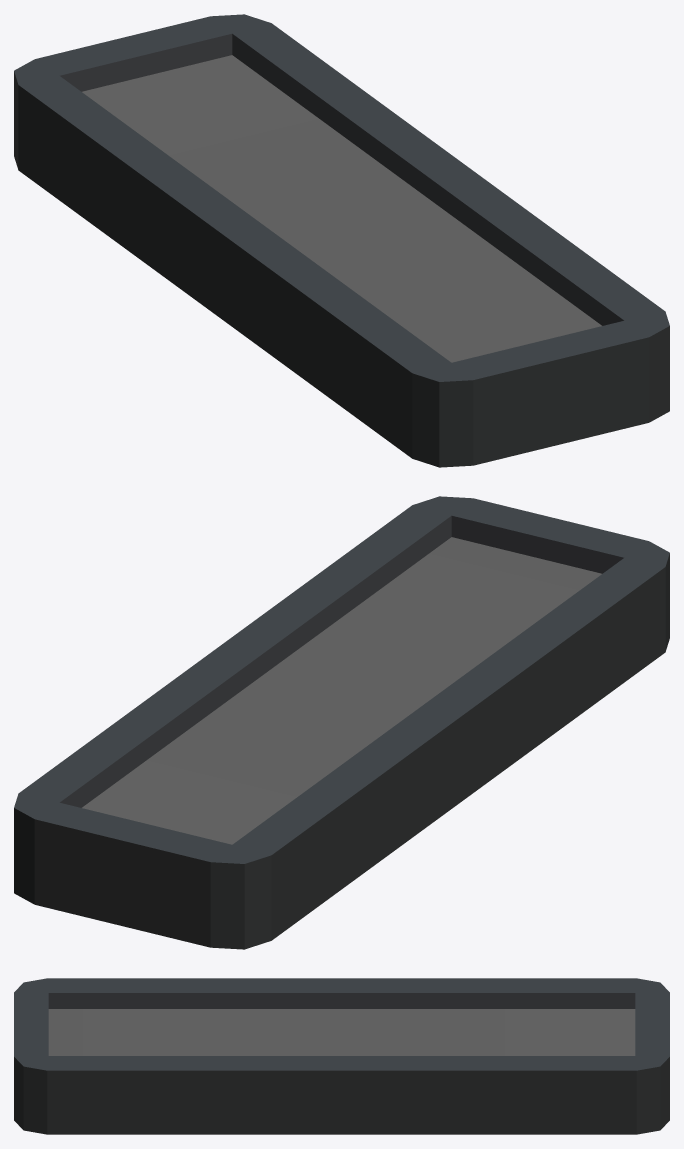
The model's file is LightBlock_03.glb.
The picture shows the model from 3 angles, top to bottom: view 1: azimuth 30°, elevation 25°; view 2: azimuth 150°, elevation 25°; view 3: azimuth 270°, elevation 25°; orthographic projection. The views are drawn at different scales.
Parts seen in each view (by area): view 1: LightBlock_03; view 2: LightBlock_03; view 3: LightBlock_03.
Part boxes in pixels (x1=…): LightBlock_03: x1=14, y1=14, x2=669, y2=467; LightBlock_03: x1=14, y1=496, x2=669, y2=949; LightBlock_03: x1=14, y1=978, x2=669, y2=1134.
Size of what is drawn, in the model's own units: 0.4178 by 0.1348 by 1.25.
Materials: 2 (2 with a texture image).
